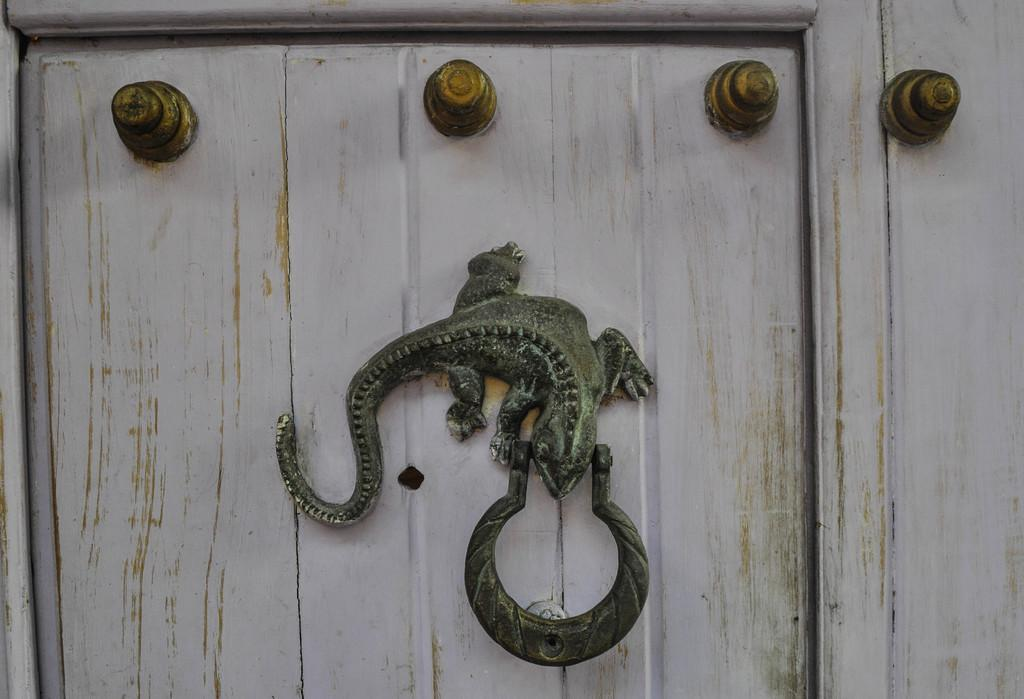handle: (268, 233, 662, 671)
